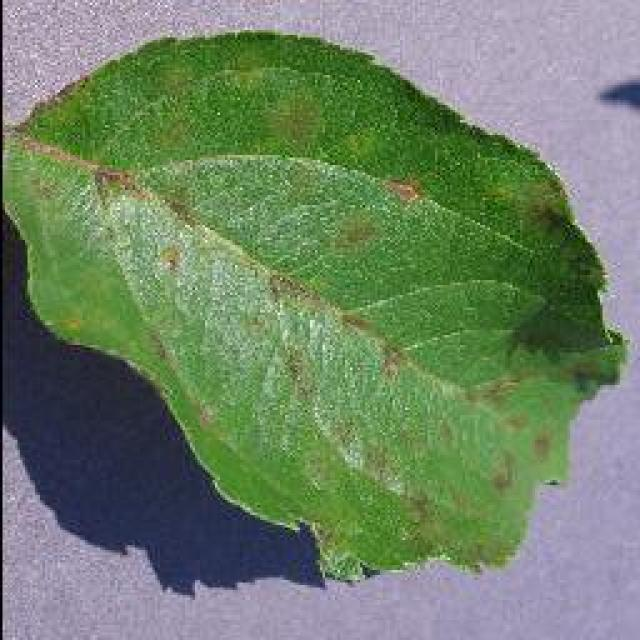apple scab disease: (2, 27, 628, 585)
